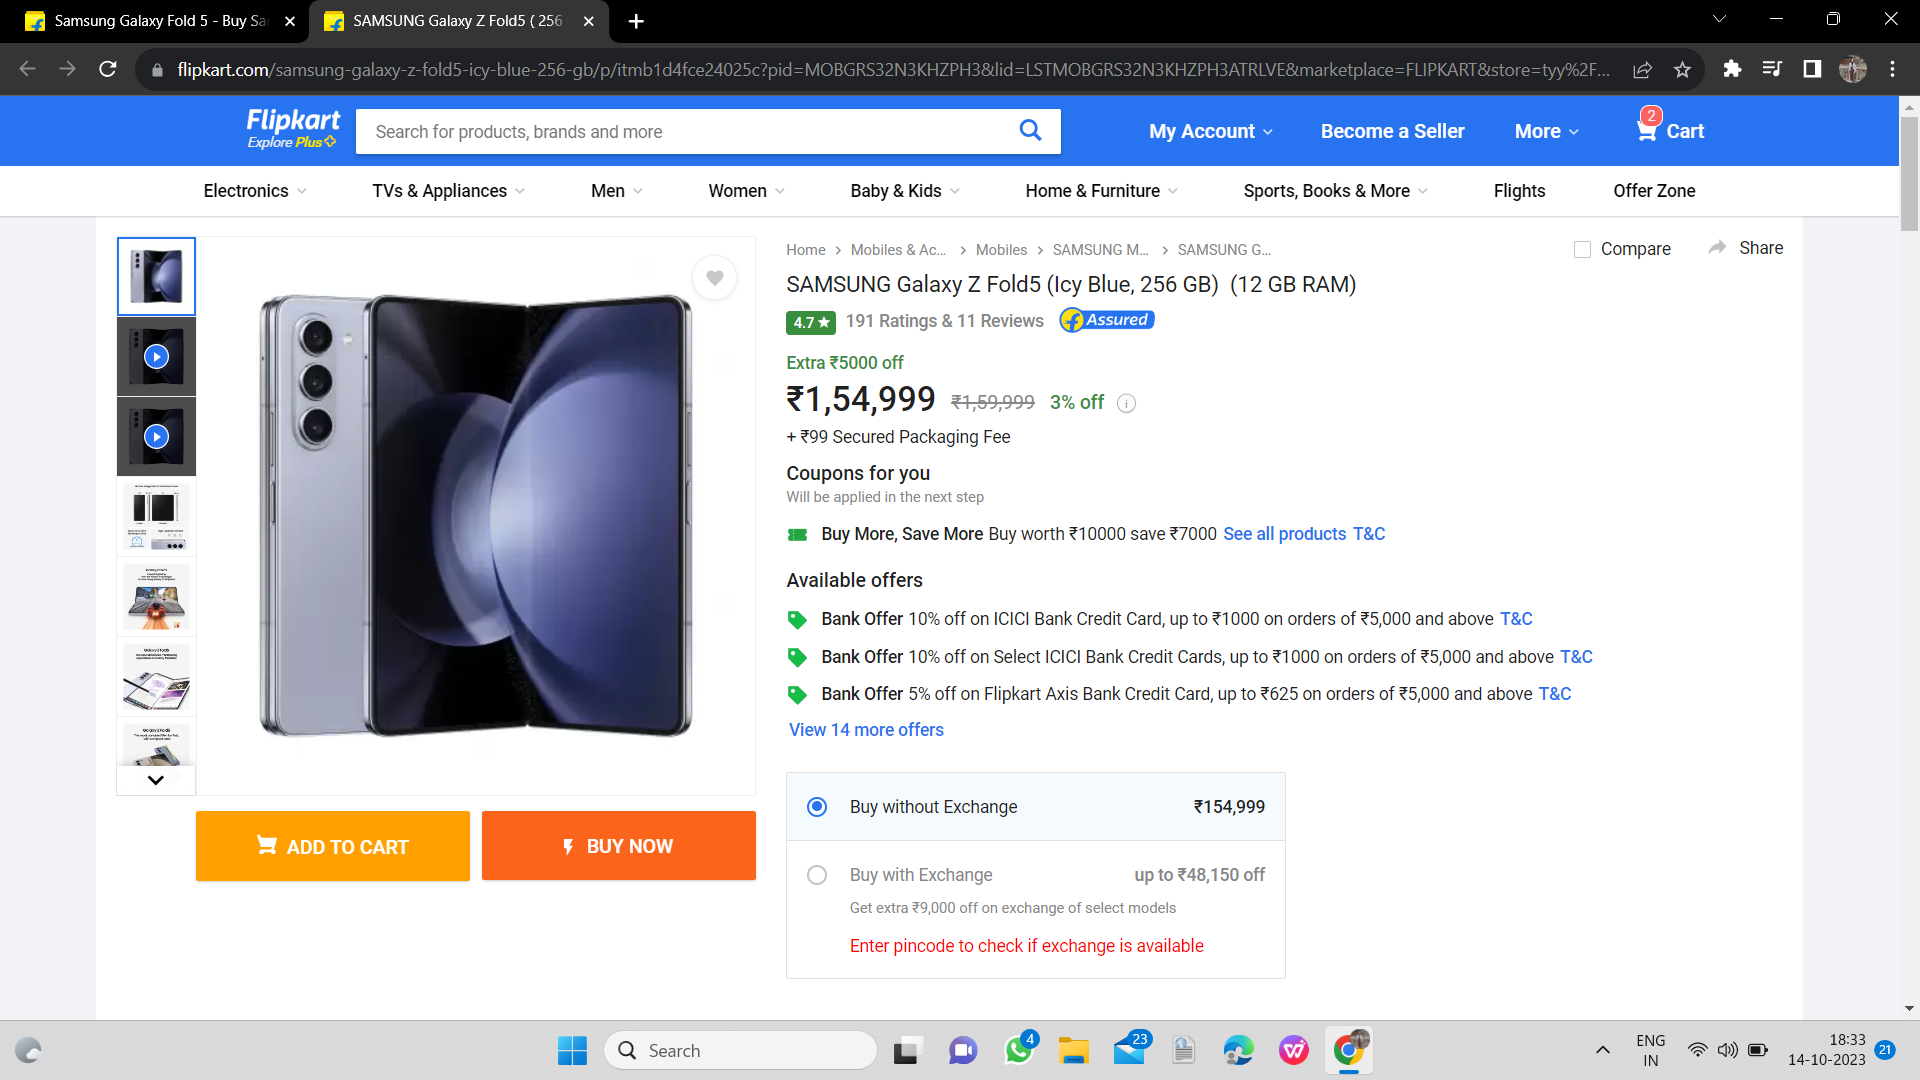Image: (251, 274, 702, 750), (344, 104, 1092, 166), (112, 251, 196, 764), (814, 644, 1611, 669)
Paragraph: (803, 796, 1266, 964), (481, 794, 773, 889), (179, 803, 475, 885), (824, 596, 1534, 628), (808, 513, 1387, 549), (775, 266, 1371, 299), (773, 301, 1171, 342), (818, 684, 1577, 703), (777, 371, 934, 417), (774, 715, 956, 740), (770, 430, 1025, 447), (1564, 235, 1685, 269), (1713, 233, 1803, 265), (1047, 378, 1109, 421), (782, 351, 920, 368), (783, 495, 986, 505), (787, 471, 934, 485)
